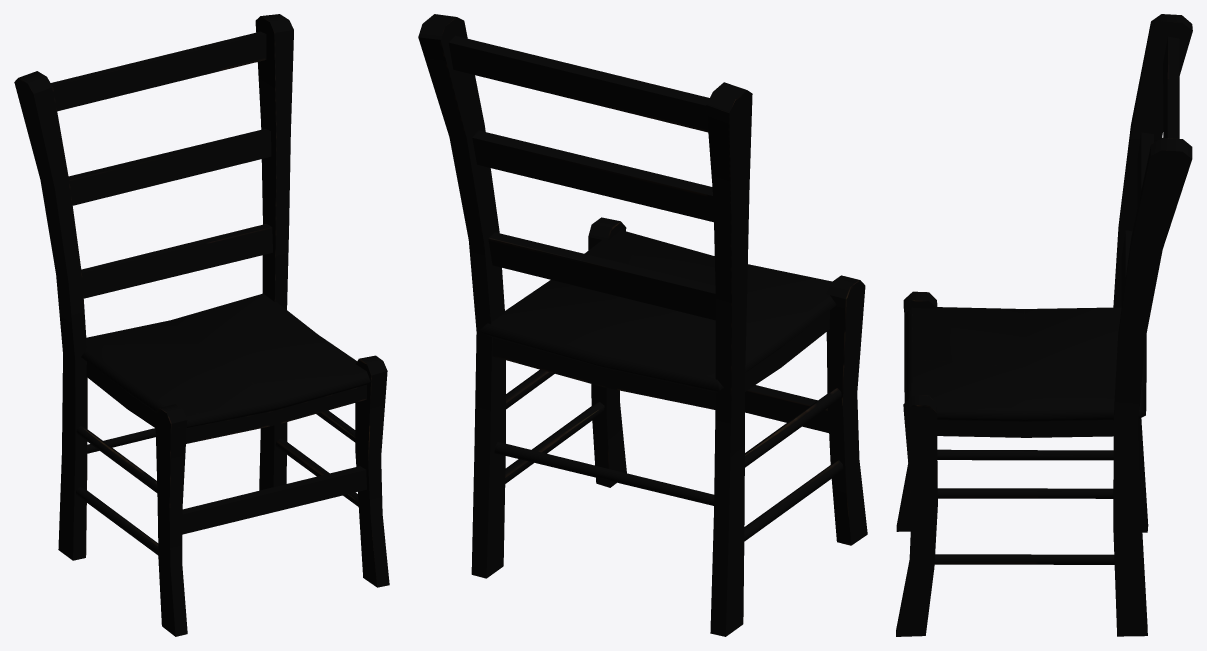
Rendered from chair.fbx.
3 views of the same model, side by side, from view 1: azimuth 30°, elevation 25°; view 2: azimuth 150°, elevation 25°; view 3: azimuth 270°, elevation 25° (orthographic). The views are drawn at different scales.
Parts seen in each view (by area): view 1: node_id32; view 2: node_id32; view 3: node_id32.
Part boxes in pixels (left/top/right/bottom): node_id32: left=14, top=14, right=389, bottom=636; node_id32: left=418, top=14, right=867, bottom=636; node_id32: left=896, top=14, right=1192, bottom=636.
Size of the model in its own units: 0.2033 by 0.3489 by 0.1871.
Materials: 1 (1 with a texture image).
